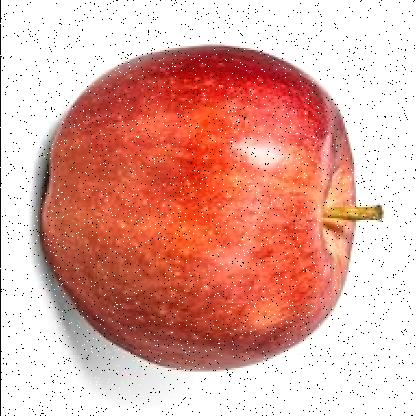apple: (35, 46, 363, 372)
